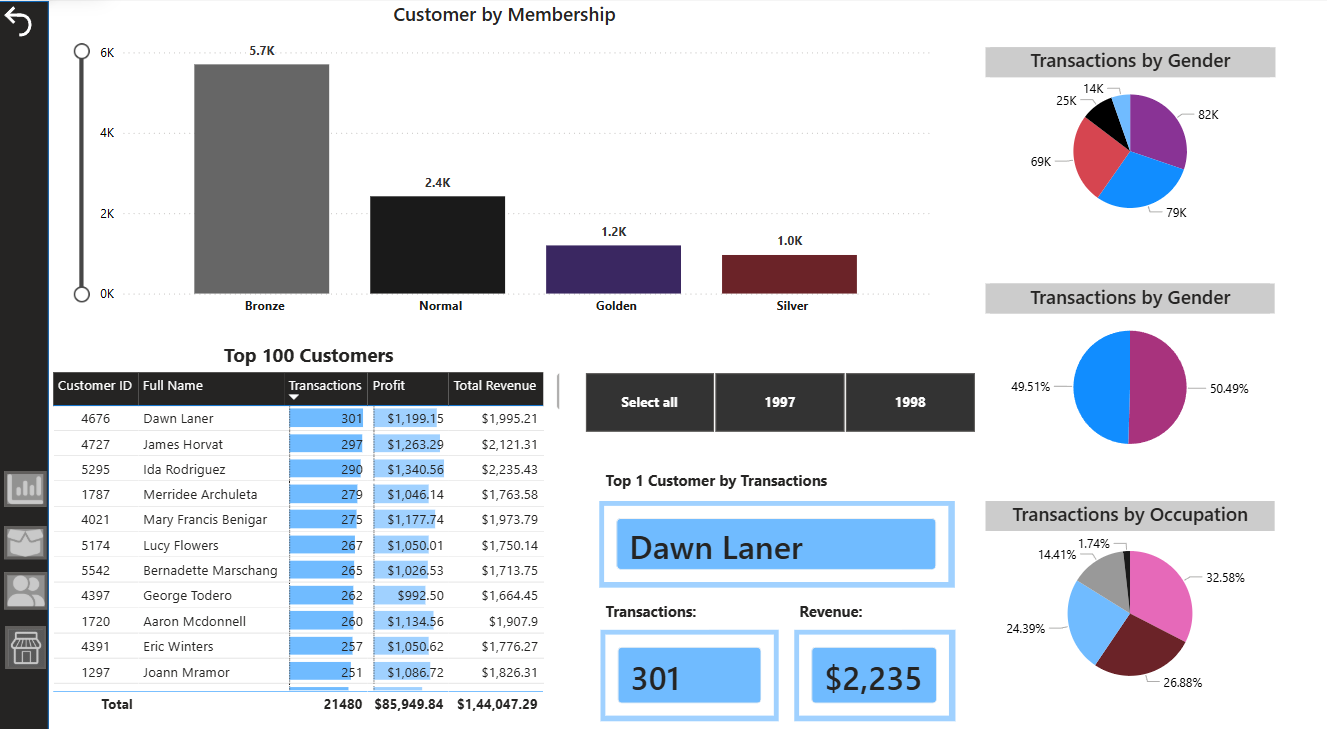

What the dashboard file says about the page in this screenshot:
{"tool":"powerbi","page":{"name":"Customer","canvas":[1280,720],"ordinal":2},"visuals":[{"type":"tableEx","title":"Top 100 Customers","fields":{"Values":["Customer Lookup.Customer ID","Customer Lookup.Full Name","Measure.Total Transactions","Measure.Total Profit","Measure.Total Revenue"]},"box":[47.7,337.5,517.3,374.2],"z":0},{"type":"shape","box":[0,0,50.1,720.2],"z":1000},{"type":"cardVisual","fields":{"Data":["Measure.Total Transactions"]},"box":[595.5,621.2,176.1,90.5],"z":2000},{"type":"cardVisual","fields":{"Data":["Measure.Total Revenue"]},"box":[786.3,621.2,159,90.5],"z":3000},{"type":"textbox","box":[595.5,457.8,313,33],"z":4000},{"type":"cardVisual","fields":{"Data":["Min(Customer Lookup.Full Name)"]},"box":[594.3,494,351,85.6],"z":5000},{"type":"textbox","box":[595.3,587.9,106.7,32.7],"z":6000},{"type":"textbox","box":[785.8,587.9,106.7,32.7],"z":7000},{"type":"slicer","fields":{"Values":["Calendar.Year"]},"box":[553.9,360.7,434.1,72.1],"z":8000},{"type":"pieChart","title":"Transactions by Occupation","fields":{"Category":["Customer Lookup.Occupation"],"Y":["Measure.Total Transactions"]},"box":[975.8,505,286.1,196.9],"z":9000},{"type":"pieChart","title":"Transactions by Gender","fields":{"Category":["Customer Lookup.Gender"],"Y":["Measure.Total Transactions"]},"box":[975.6,278.8,285.9,180.6],"z":10000},{"type":"pieChart","title":"Transactions by Gender","fields":{"Category":["Customer Lookup.Education"],"Y":["Measure.Total Transactions"]},"box":[975.8,45.2,286.1,181],"z":11000},{"type":"clusteredColumnChart","title":"Customer by Membership ","fields":{"Category":["Customer Lookup.Member Date"],"Y":["Measure.Total Customers"]},"box":[72.1,0,857.2,319.2],"z":12000},{"type":"actionButton","box":[0,0,100,40],"z":13000},{"type":"actionButton","box":[6.1,464.7,41.6,35.5],"z":13001},{"type":"actionButton","box":[6.1,518.5,41.6,33],"z":13002},{"type":"actionButton","box":[6.1,563.7,42.8,36.7],"z":13003},{"type":"actionButton","box":[7.3,617.5,40.4,42.8],"z":13004}]}

Visuals, with their boxes on the page's 1280x720 design canvas (x1, y1, x2, y2). These are canvas units, not pixel positions in the 1327x729 screenshot, which may show the page scaled, cropped or inside an application window:
"Top 100 Customers" tableEx: [48,338,565,712]
shape: [0,0,50,720]
cardVisual - Measure.Total Transactions: [596,621,772,712]
cardVisual - Measure.Total Revenue: [786,621,945,712]
textbox: [596,458,908,491]
cardVisual - Min(Customer Lookup.Full Name): [594,494,945,580]
textbox: [595,588,702,621]
textbox: [786,588,892,621]
slicer - Calendar.Year: [554,361,988,433]
"Transactions by Occupation" pieChart: [976,505,1262,702]
"Transactions by Gender" pieChart: [976,279,1262,459]
"Transactions by Gender" pieChart: [976,45,1262,226]
"Customer by Membership " clusteredColumnChart: [72,0,929,319]
actionButton: [0,0,100,40]
actionButton: [6,465,48,500]
actionButton: [6,518,48,552]
actionButton: [6,564,49,600]
actionButton: [7,618,48,660]
